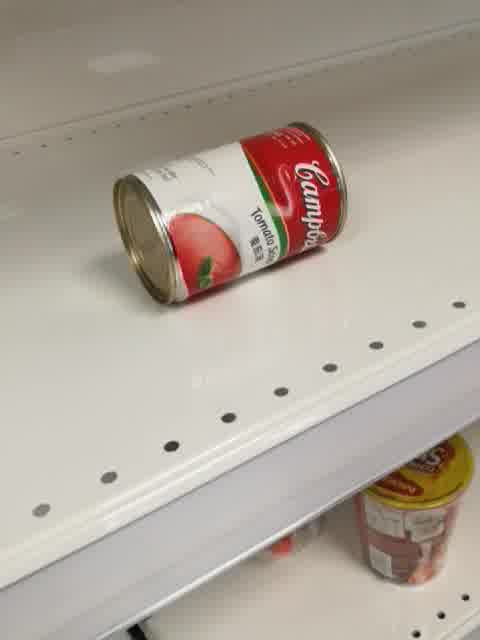tomatosoup: (109, 119, 348, 308)
